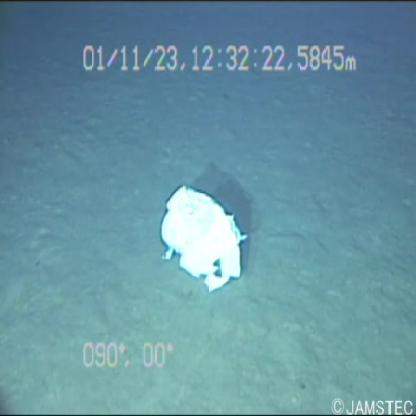Rác: (152, 183, 254, 299)
